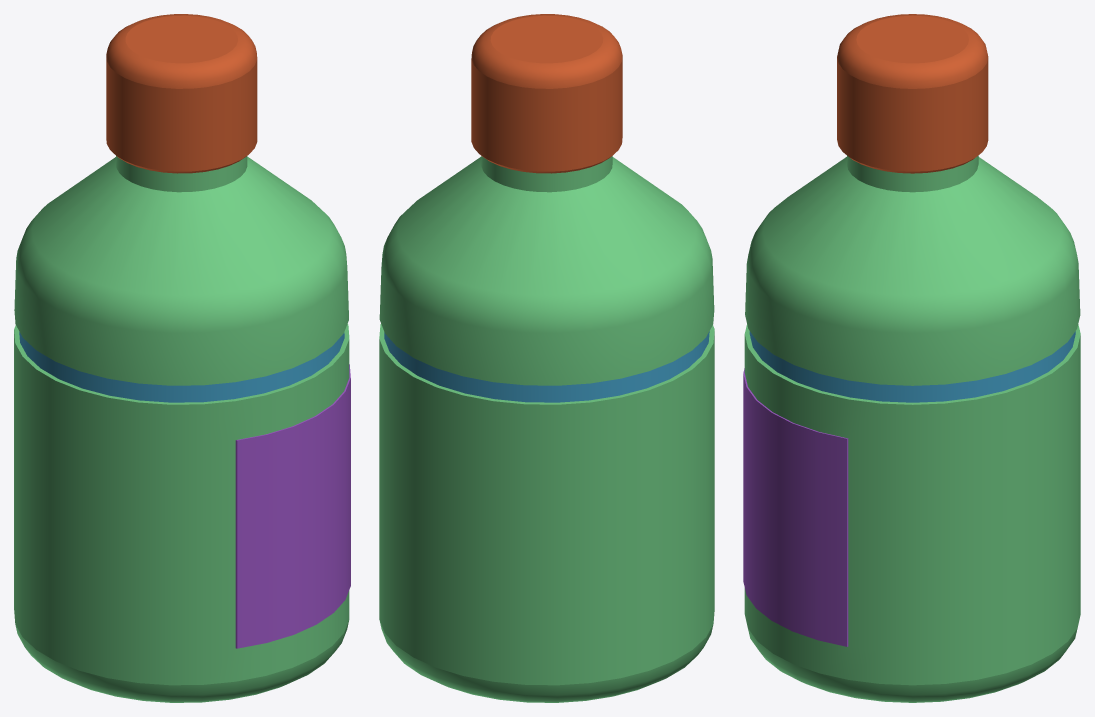
The model's file is Bottle_Style_02.fbx.
3 views of the same model, side by side, from view 1: azimuth 30°, elevation 25°; view 2: azimuth 150°, elevation 25°; view 3: azimuth 270°, elevation 25° (orthographic).
Parts seen in each view (by area): view 1: SetA_Bottle_Style_02; view 2: SetA_Bottle_Style_02; view 3: SetA_Bottle_Style_02.
Boxes of the visible parts, x1,y1,x2,y2 form: SetA_Bottle_Style_02: (14, 14, 350, 702); SetA_Bottle_Style_02: (379, 14, 714, 702); SetA_Bottle_Style_02: (743, 14, 1080, 702).
Bounding box in the file's own units: 0.1125 × 0.2225 × 0.1129.
